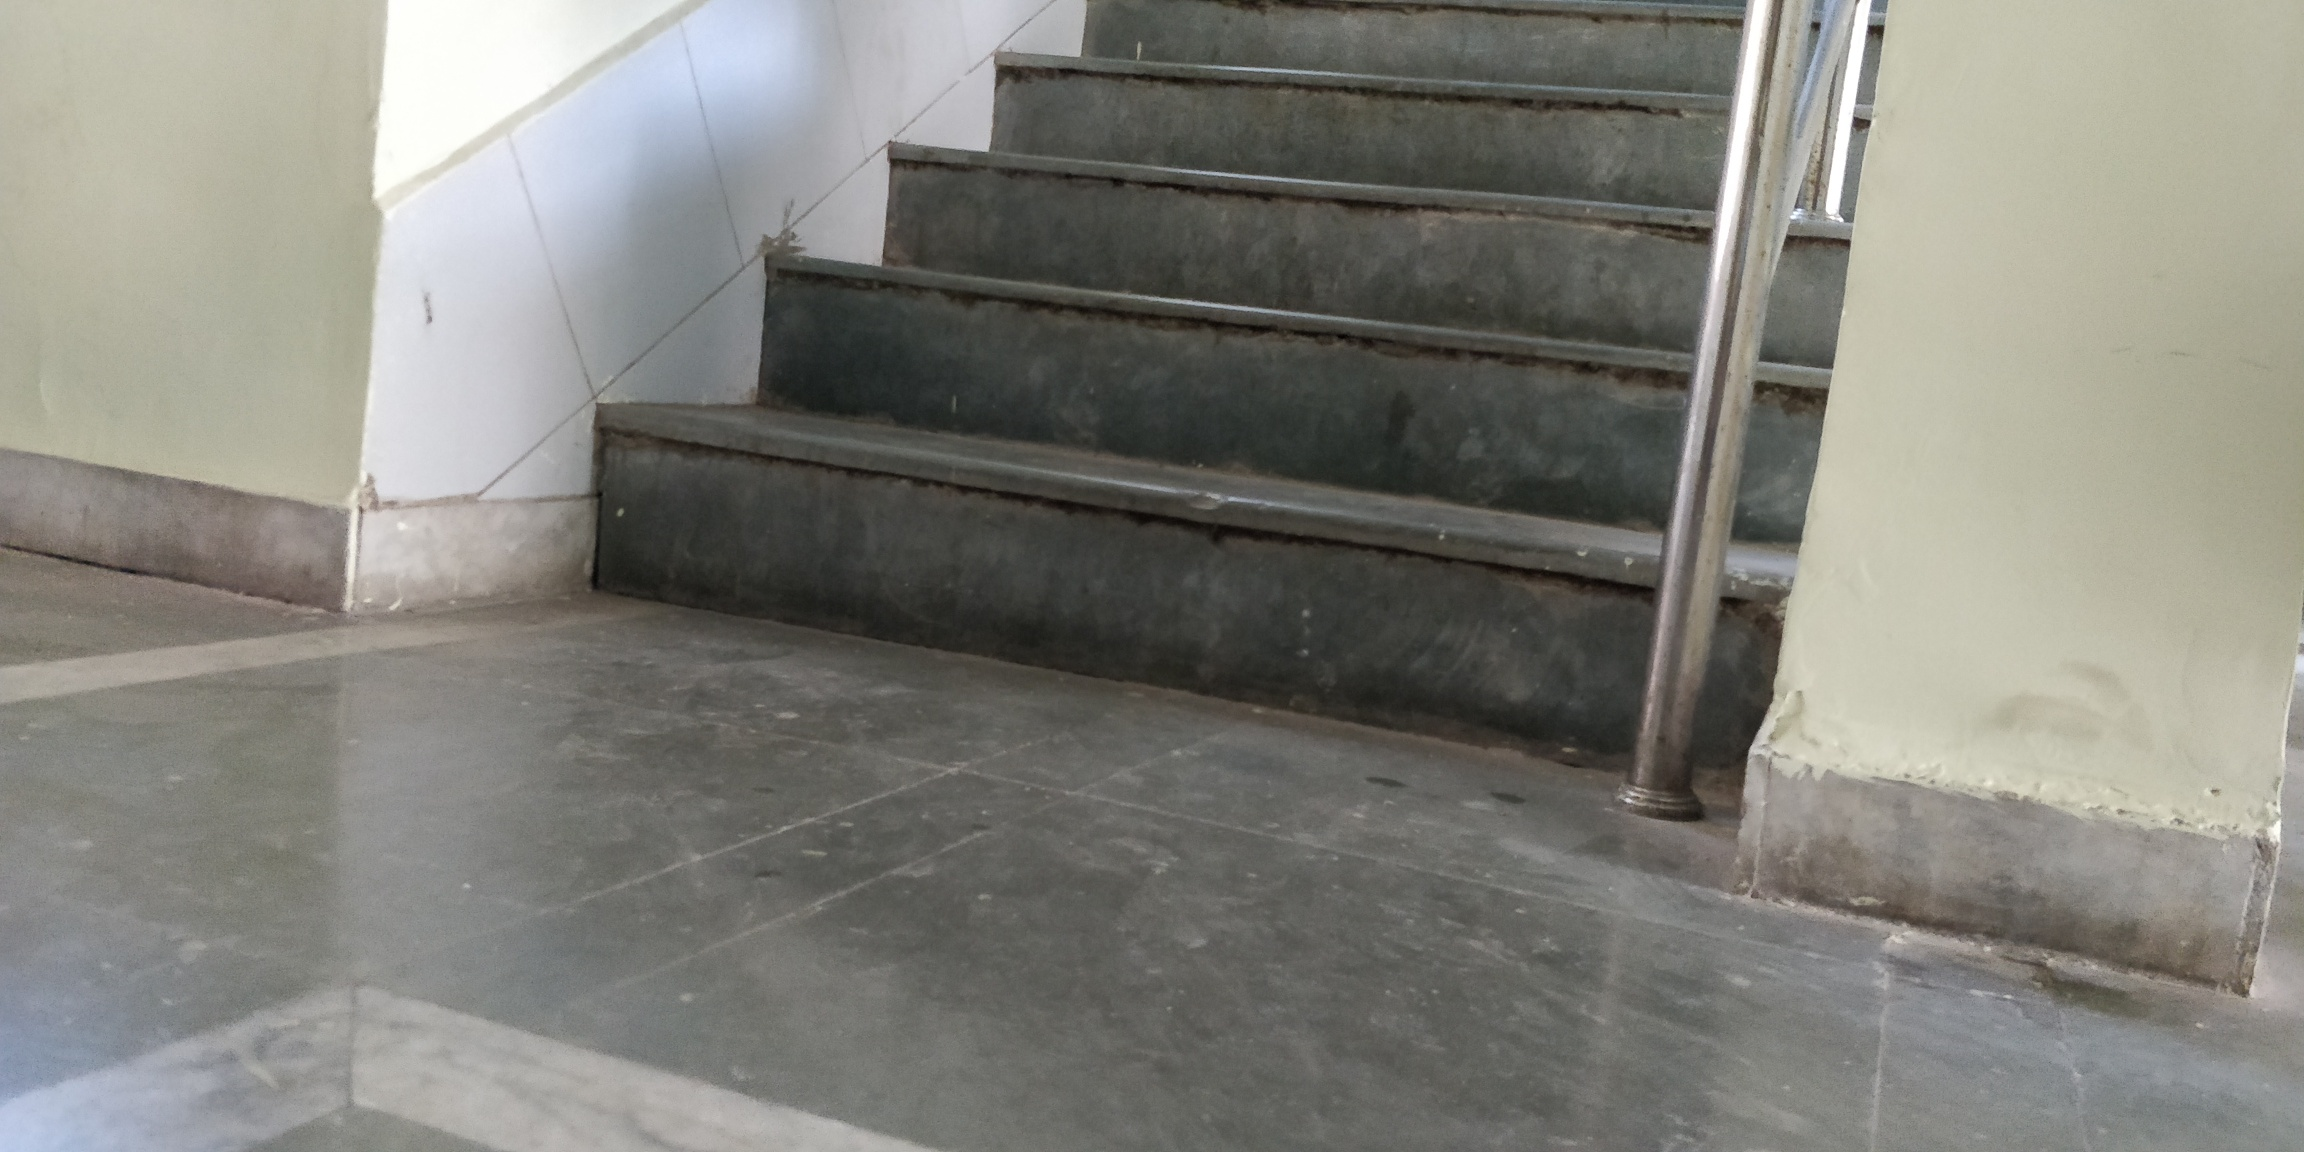stairs_up: (623, 7, 1840, 685)
